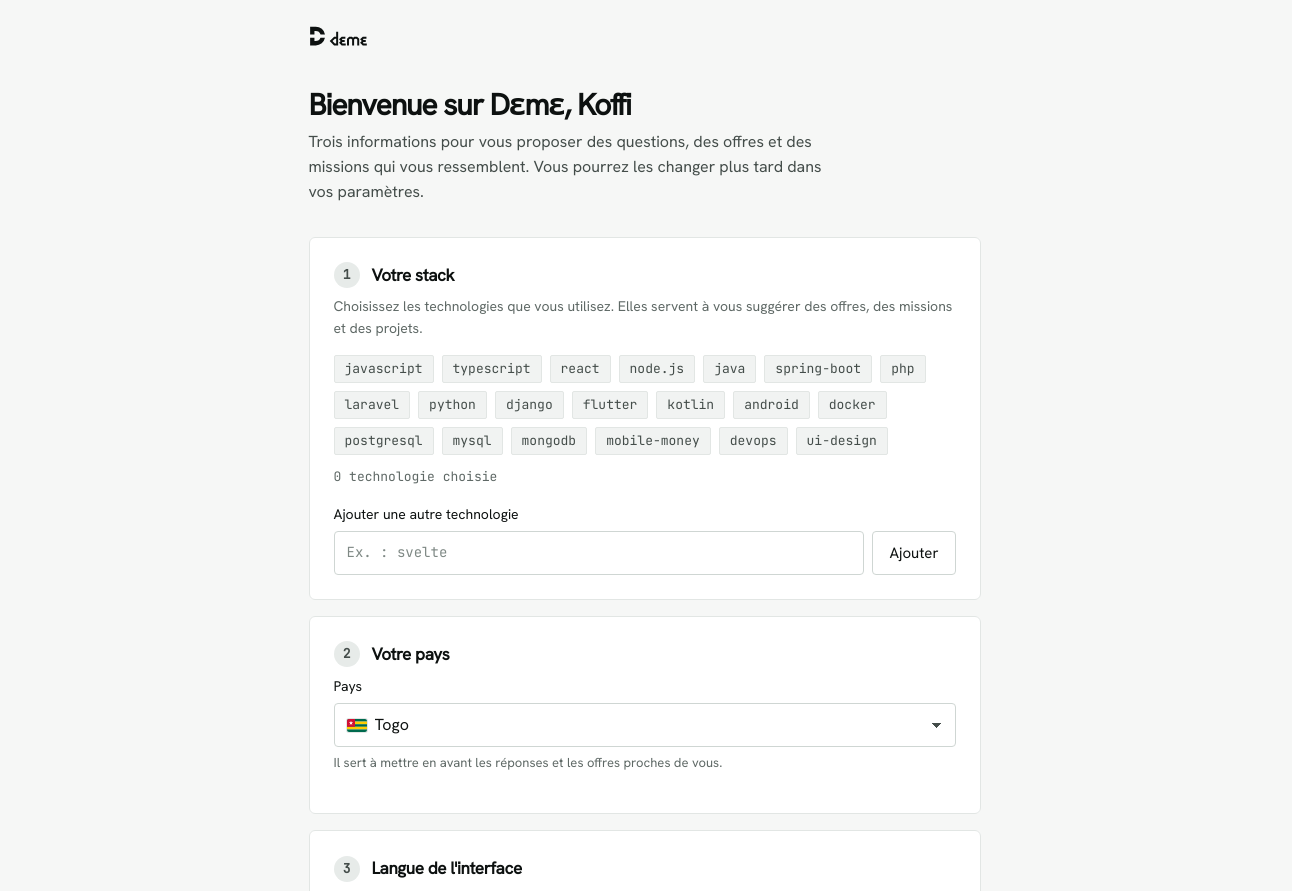
it: parcours d'accueil (AUTH-5) › laisse le nouveau membre compléter son profil, puis le ramène où il allait
Check: the heading "Bienvenue sur Dɛmɛ, Koffi" is shown, box [308,85,631,124]
Click the button "flutter": click(610, 405) [572,391,648,419]
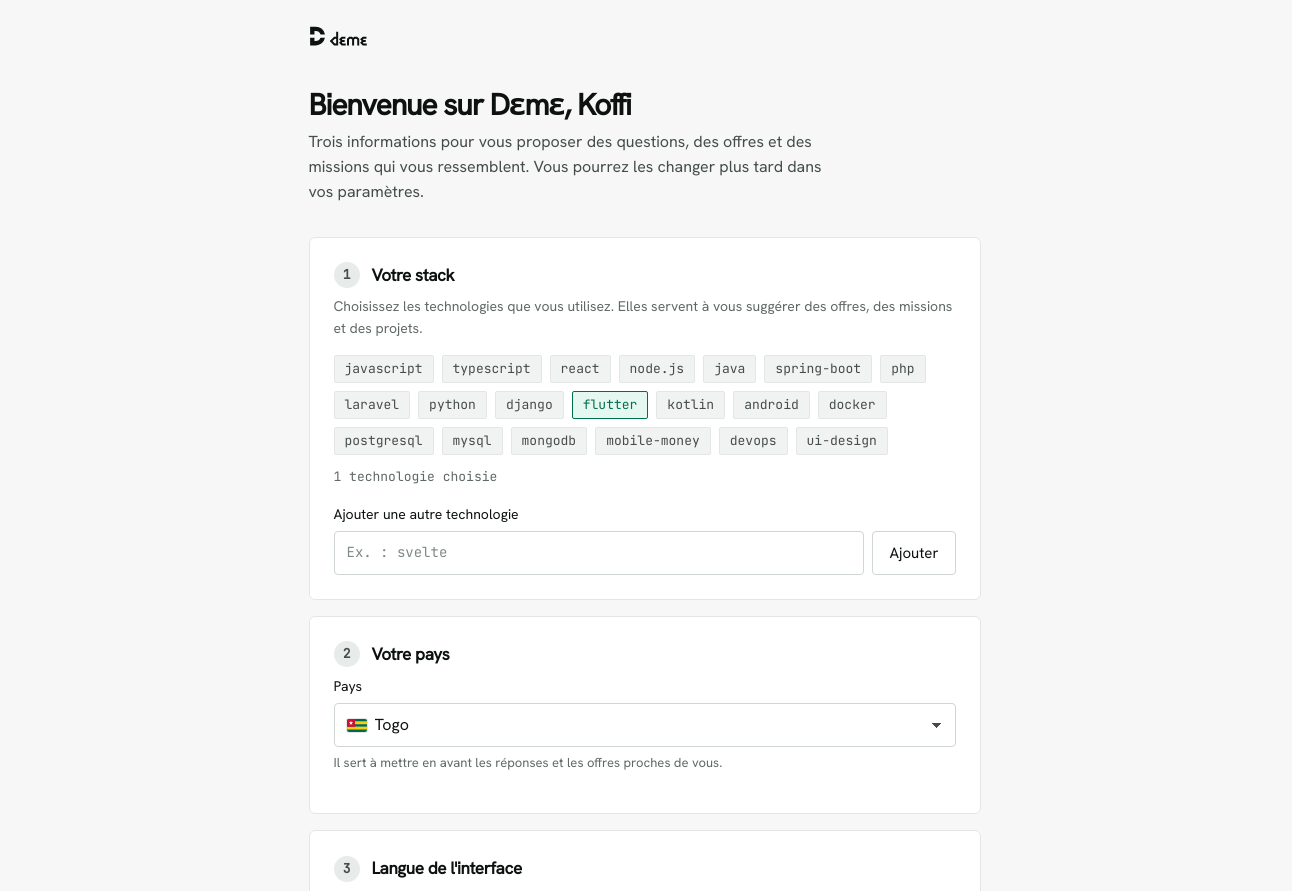
Click the button "mobile-money": click(653, 441) [595,427,711,455]
(page scrolled)
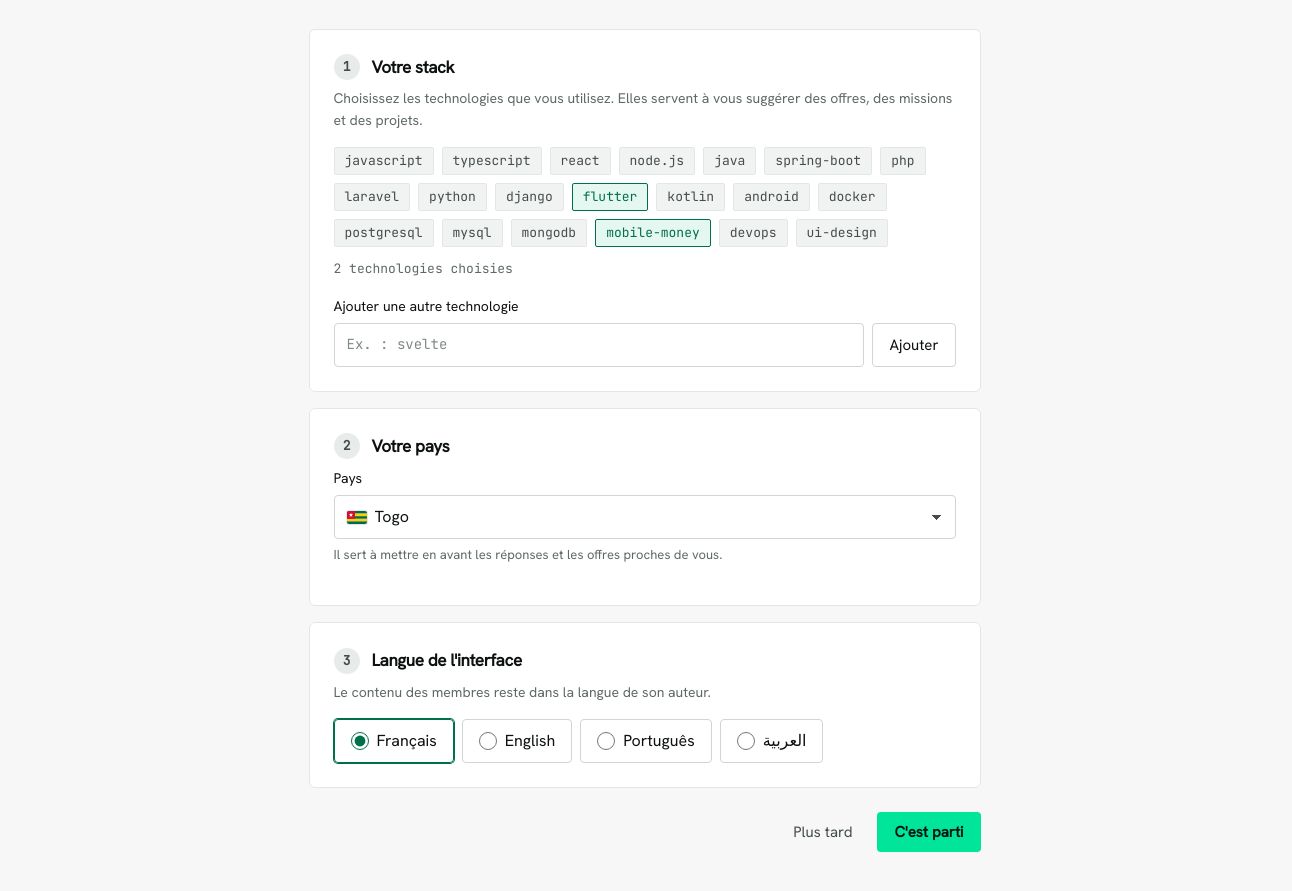
Click the button "C'est parti": click(929, 832) [878,812,980,852]
(page scrolled)
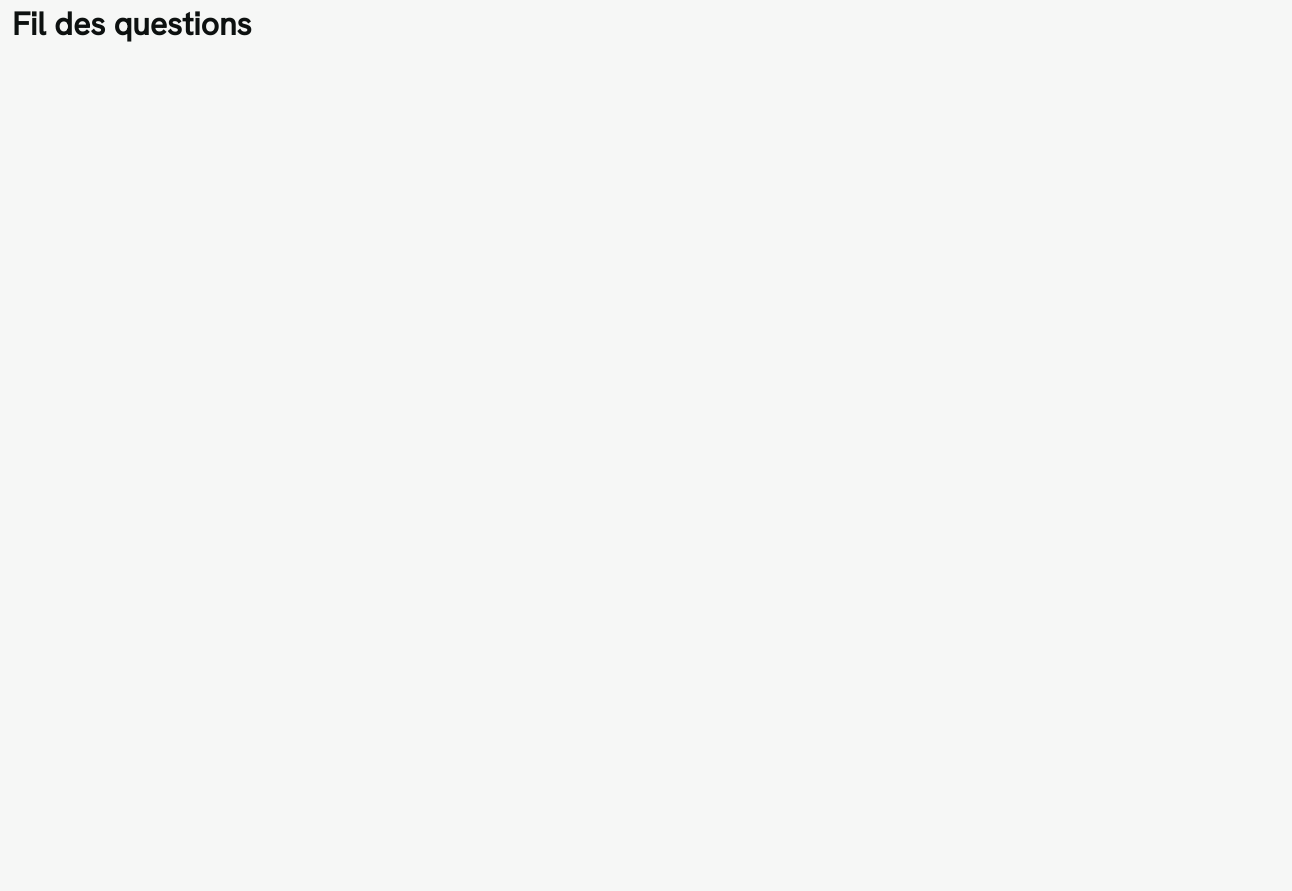
Check: the heading "Fil des questions" is shown, box [12,3,252,45]
